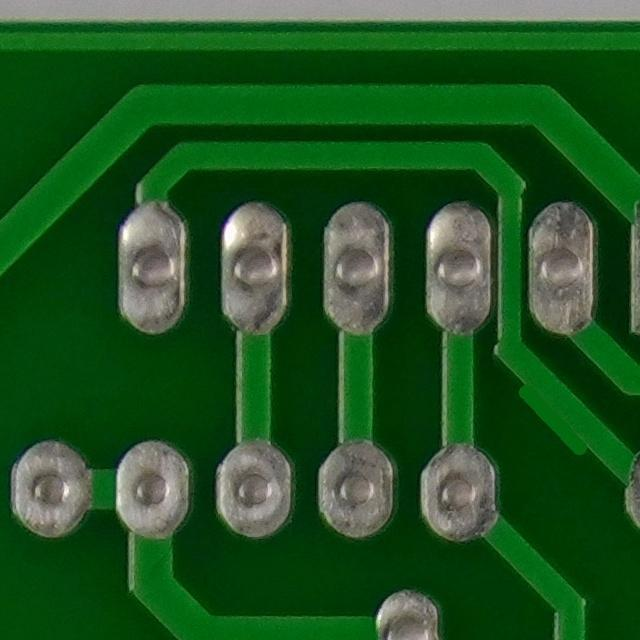spur: (495, 375, 608, 467)
